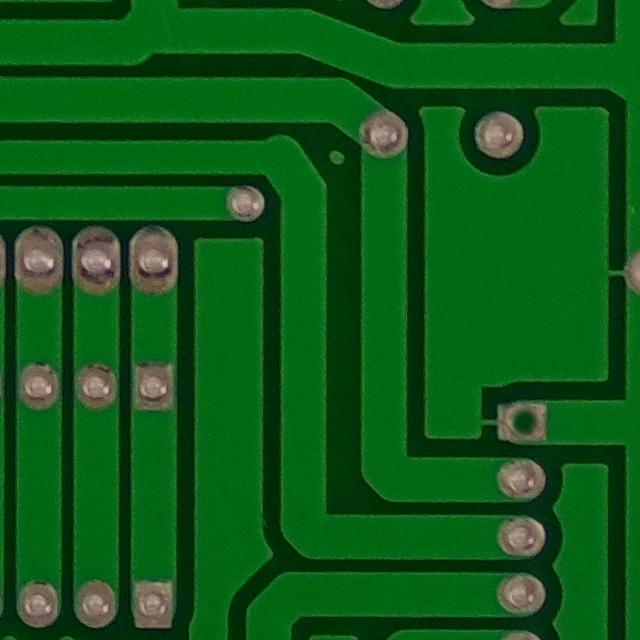missing_hole: (493, 393, 566, 457)
